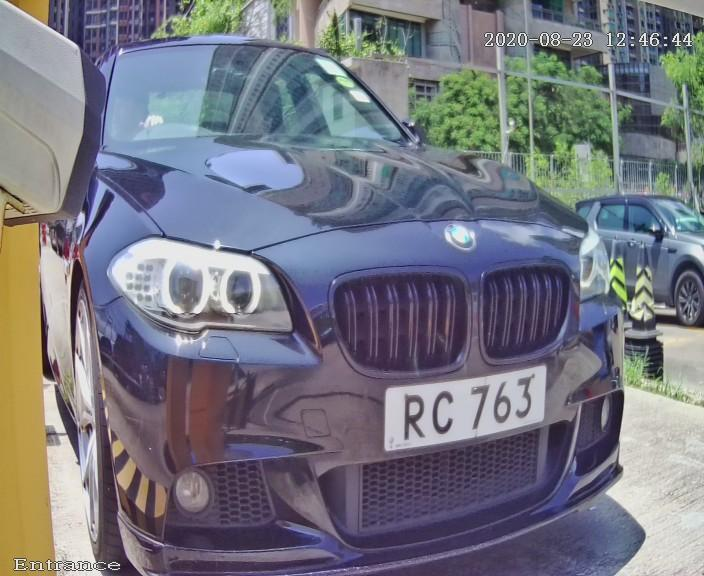Car: (38, 8, 635, 576)
License Plate: (375, 350, 560, 453)
